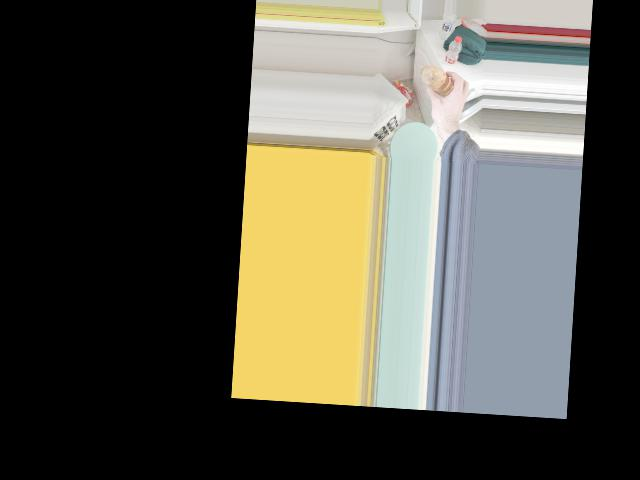sweet_potato: (420, 63, 452, 96)
